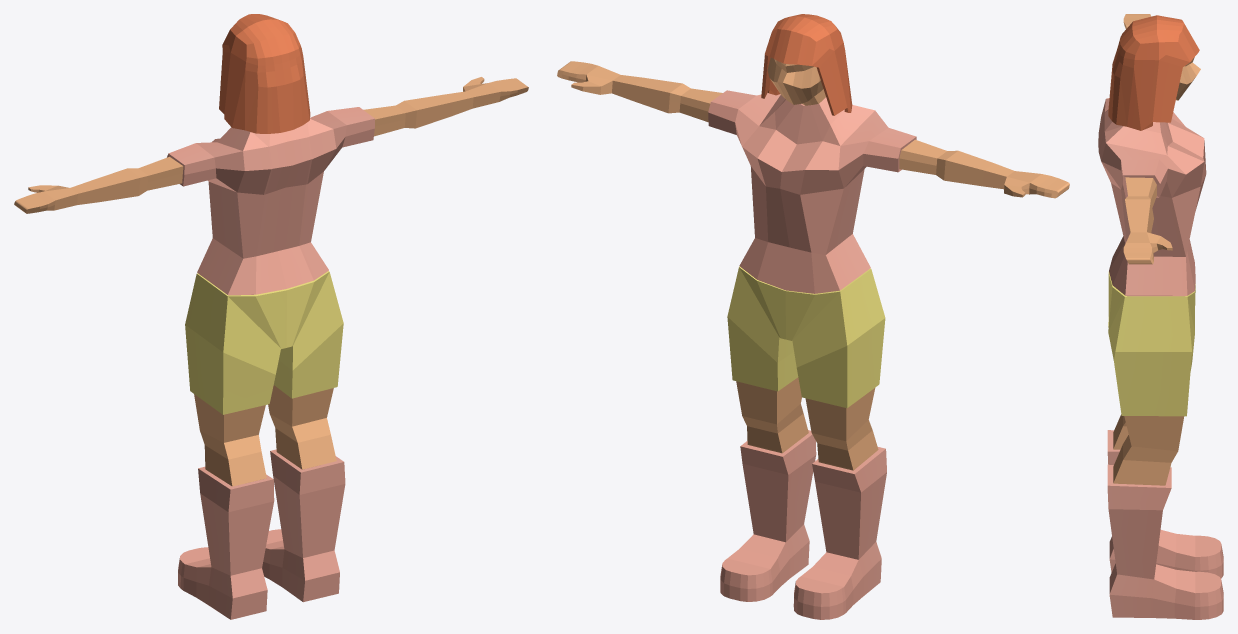
Rendered from NPC_Woman.fbx.
The picture shows the model from 3 angles, left to right: view 1: azimuth 30°, elevation 25°; view 2: azimuth 150°, elevation 25°; view 3: azimuth 270°, elevation 25°; orthographic projection.
Parts seen in each view (by area): view 1: Top, Boots3, Short, Body3, Hair2; view 2: Top, Boots3, Body3, Short, Hair2; view 3: Boots3, Top, Short, Body3, Hair2.
Part boxes in pixels (x1=…): Top: x1=167, y1=107, x2=374, y2=295; Boots3: x1=178, y1=449, x2=345, y2=619; Short: x1=185, y1=271, x2=343, y2=414; Body3: x1=14, y1=77, x2=528, y2=486; Hair2: x1=219, y1=14, x2=310, y2=133; Top: x1=708, y1=90, x2=916, y2=293; Boots3: x1=720, y1=430, x2=886, y2=619; Body3: x1=557, y1=57, x2=1069, y2=470; Short: x1=727, y1=266, x2=885, y2=408; Hair2: x1=761, y1=14, x2=852, y2=115; Boots3: x1=1107, y1=430, x2=1223, y2=619; Top: x1=1098, y1=98, x2=1206, y2=296; Short: x1=1108, y1=271, x2=1195, y2=416; Body3: x1=1113, y1=14, x2=1200, y2=485; Hair2: x1=1108, y1=15, x2=1199, y2=130.
Size of the model in its own units: 166 by 181 by 35.92.
Materials: 1 (1 with a texture image).
